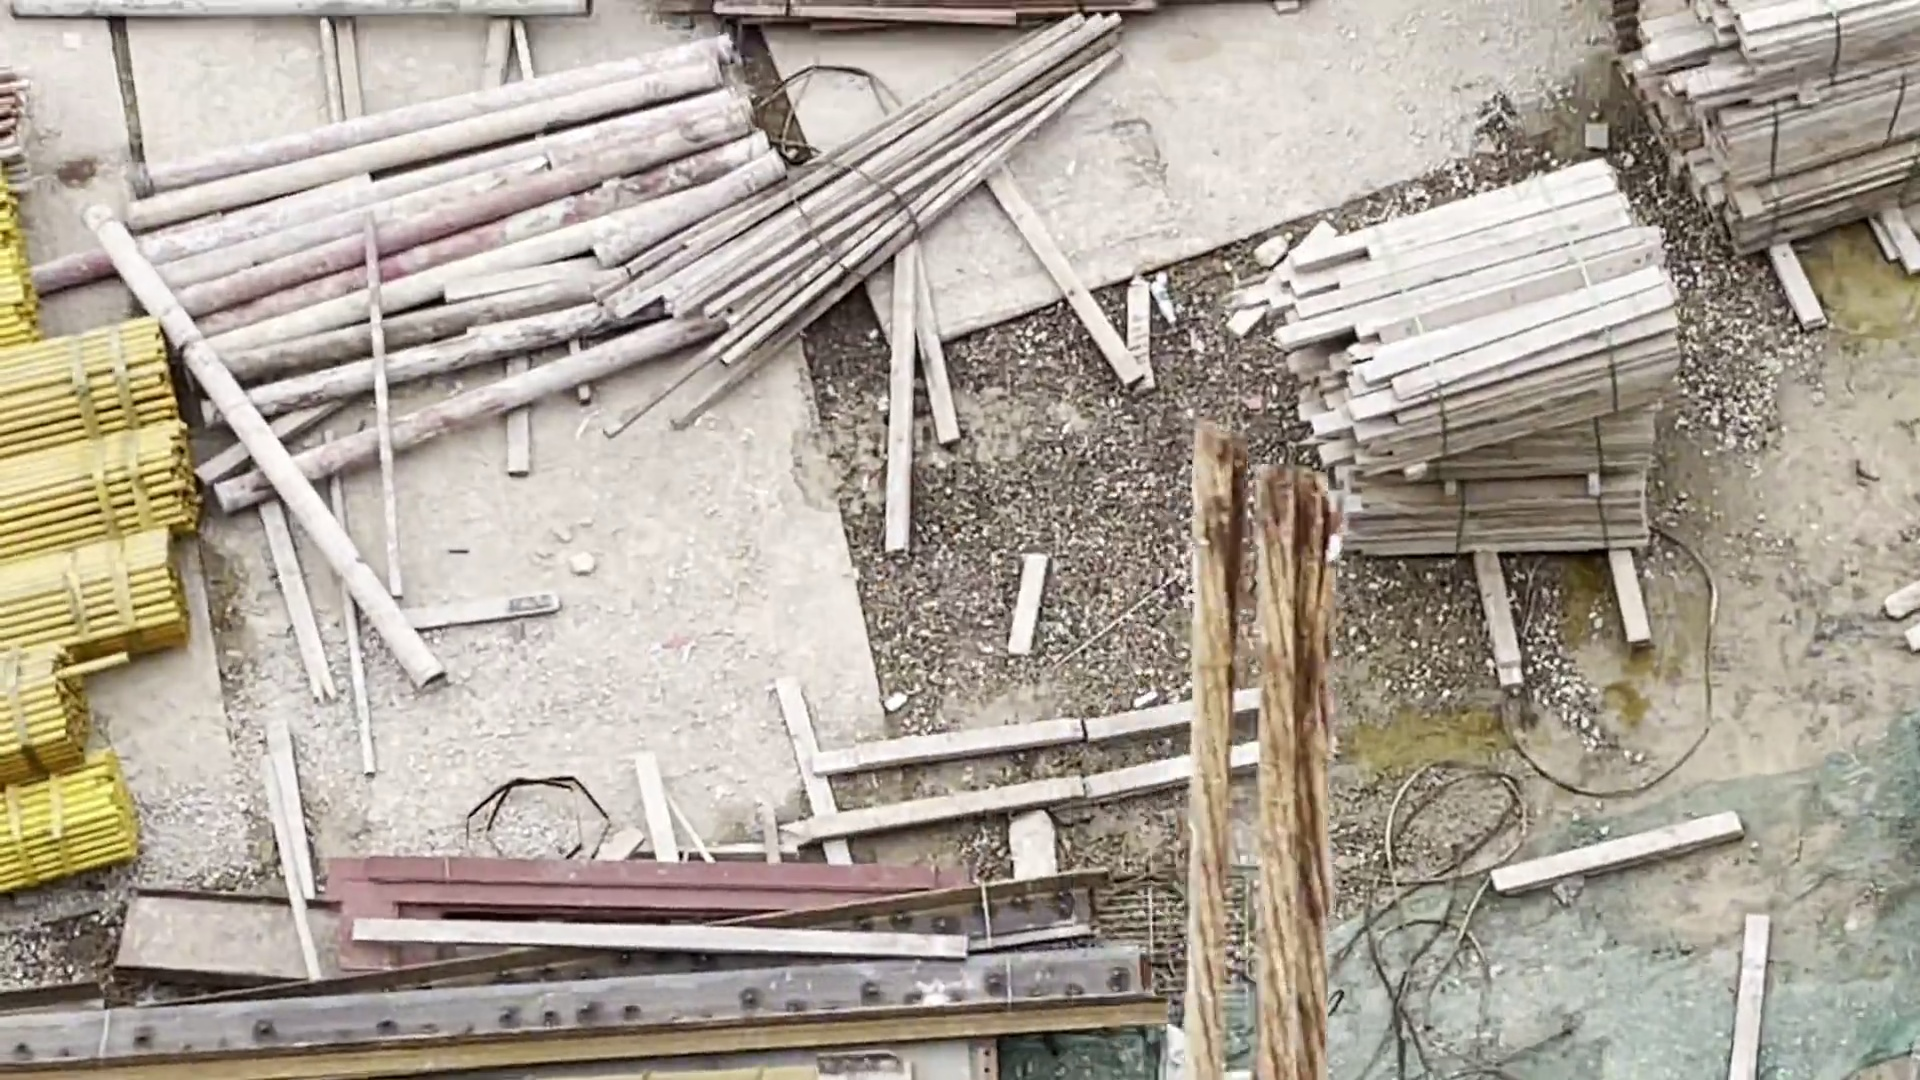scaffold: (702, 26, 1120, 381)
wood: (1279, 183, 1669, 555), (1636, 3, 1917, 232)
